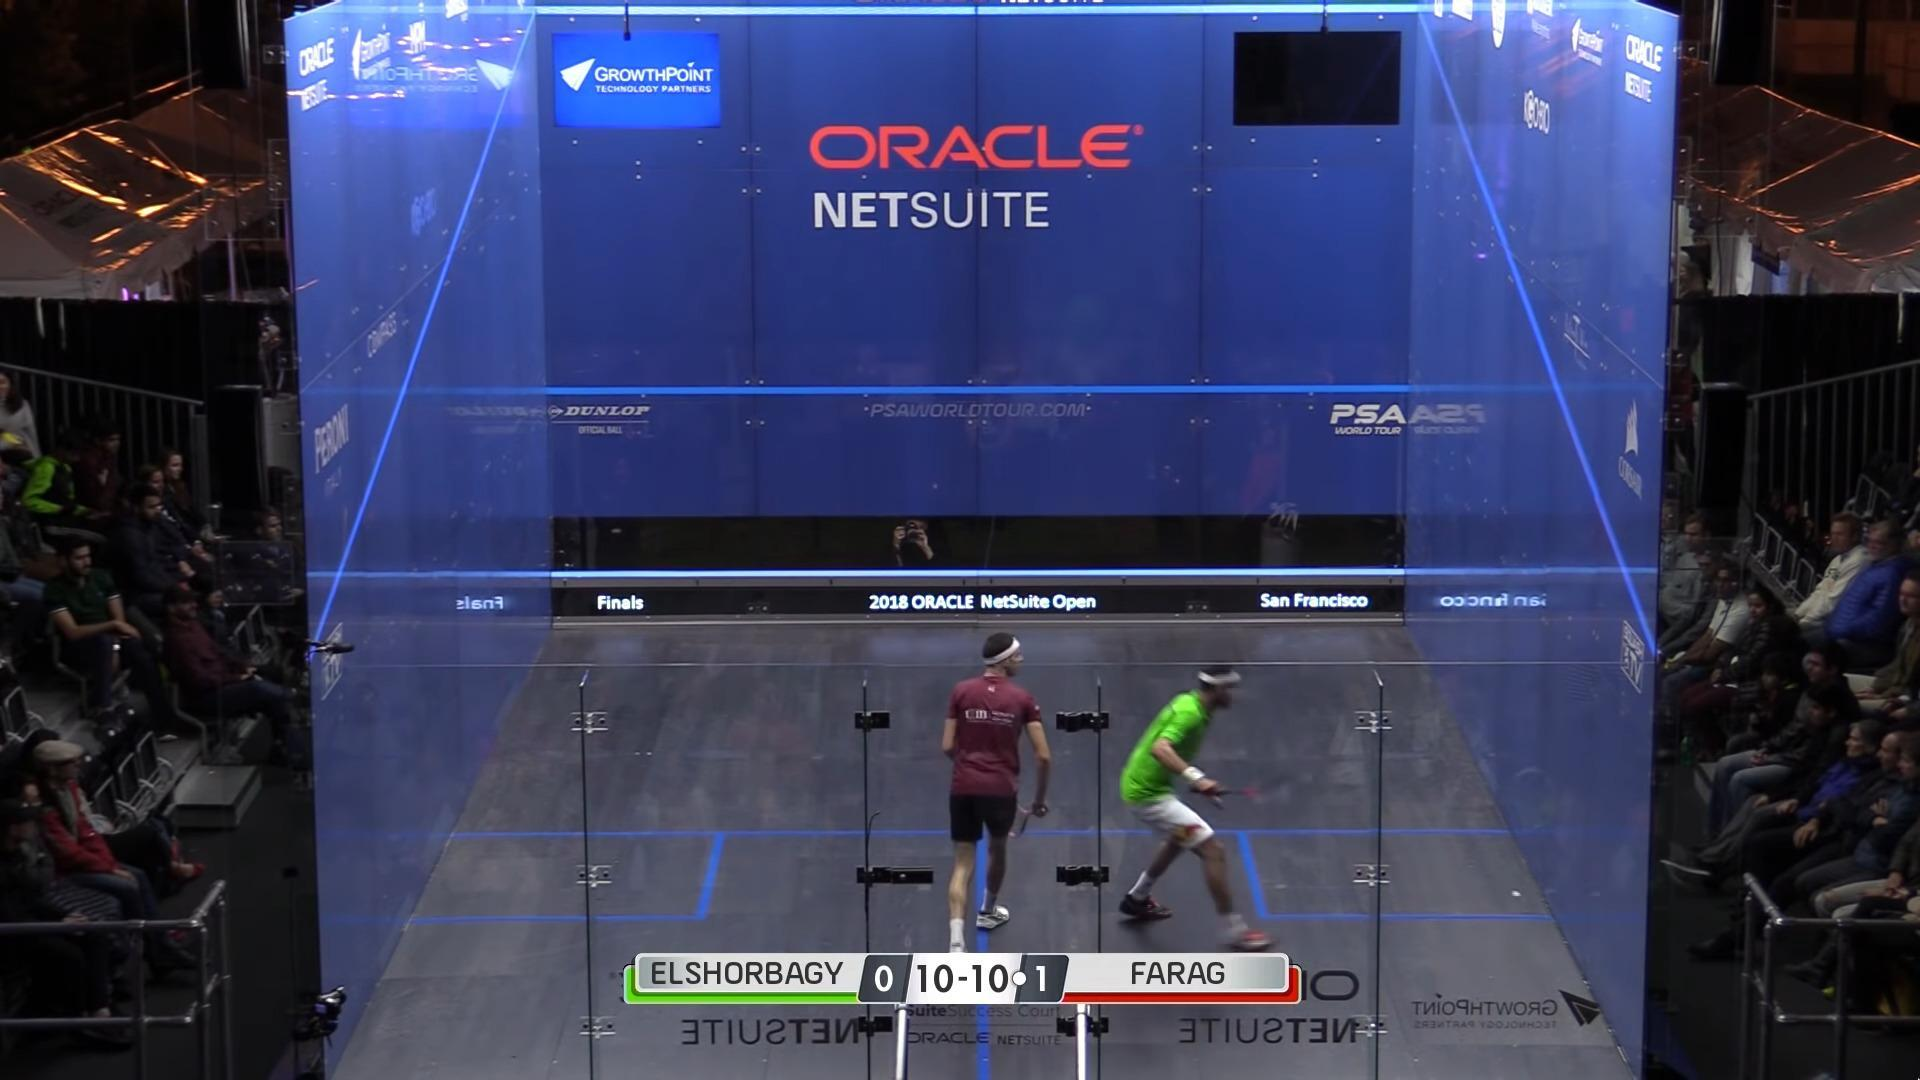Squash-Ball: (1502, 884, 1532, 905)
